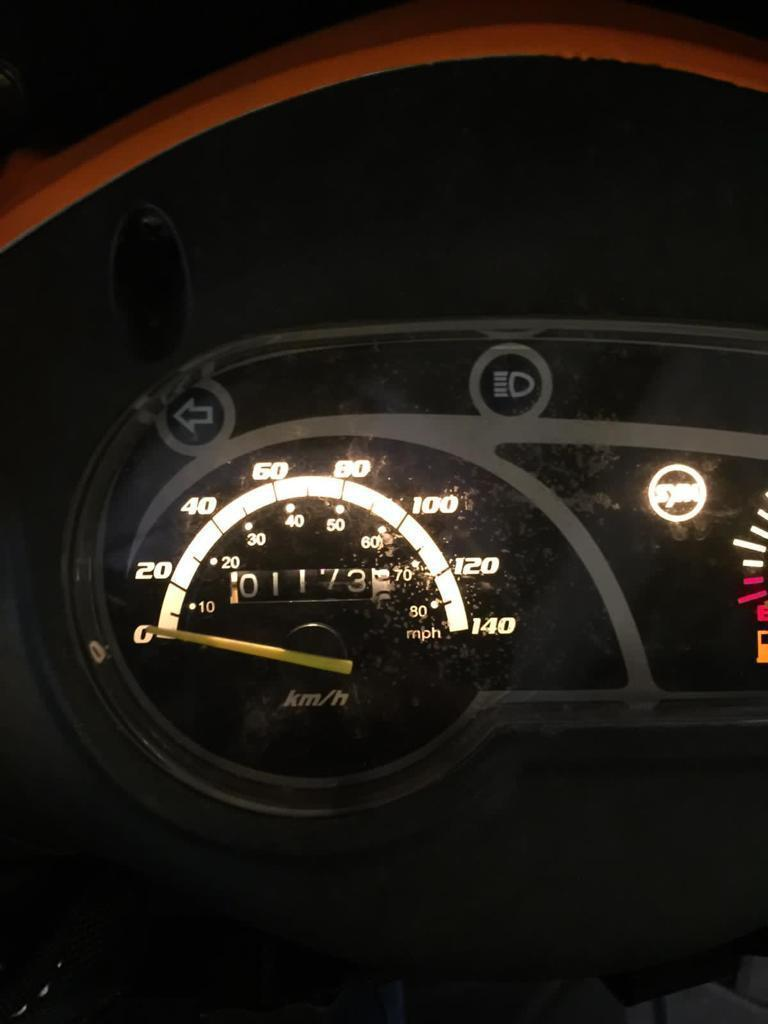0: (237, 571, 259, 599)
1: (294, 567, 310, 595), (269, 568, 281, 598)
3: (344, 567, 368, 594)
5: (372, 566, 392, 582)
6: (372, 587, 394, 601)
7: (318, 566, 340, 591)
odometer: (224, 566, 395, 606)
